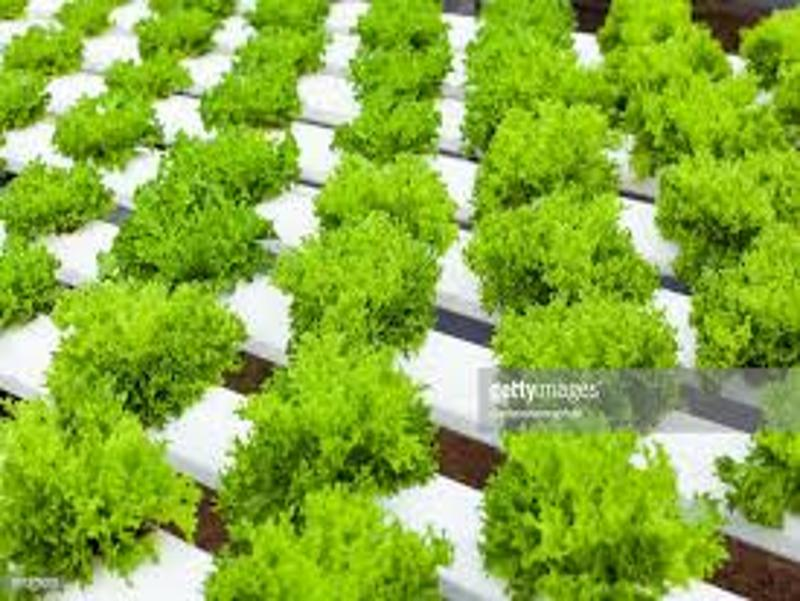green lettuce: (490, 429, 724, 598), (7, 383, 198, 576), (227, 335, 444, 486), (224, 486, 450, 601), (62, 277, 245, 419), (502, 297, 678, 429), (458, 196, 651, 310), (288, 213, 440, 353), (124, 174, 275, 282), (705, 225, 800, 373), (322, 148, 461, 244), (630, 80, 788, 161), (479, 104, 615, 197), (163, 120, 302, 200), (659, 145, 800, 223), (477, 51, 621, 115), (1, 152, 115, 230), (58, 99, 166, 156), (4, 241, 69, 331), (343, 95, 440, 155), (621, 35, 720, 84), (208, 73, 298, 123), (244, 24, 331, 74), (359, 40, 442, 92), (742, 7, 800, 69), (133, 11, 216, 53), (14, 27, 92, 71), (107, 59, 195, 95), (2, 75, 53, 127)
